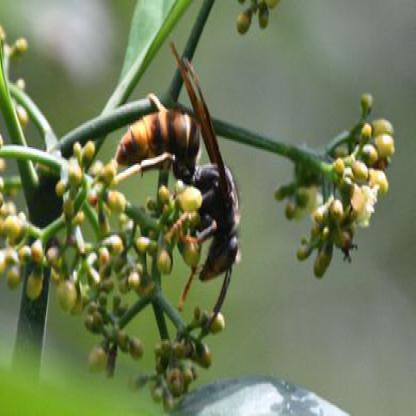Asian Hornet: (113, 51, 244, 313)
